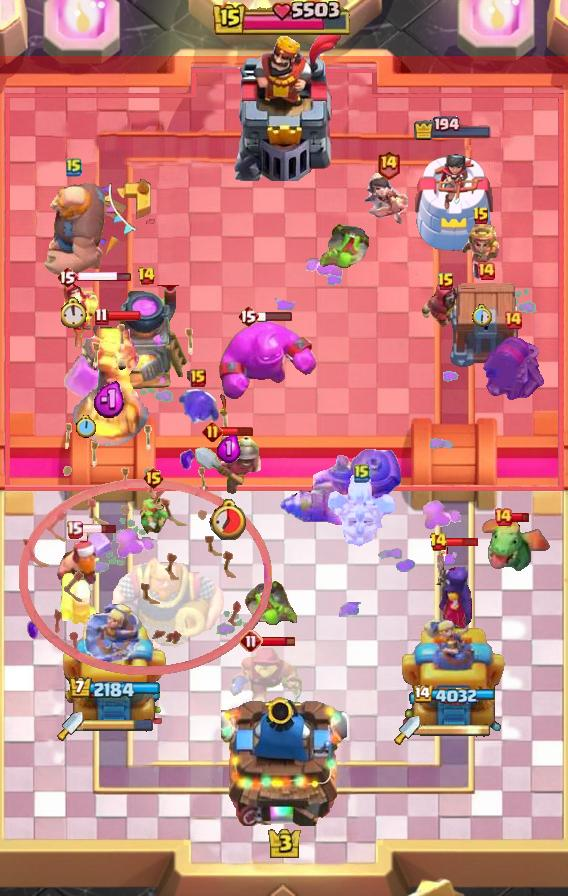axe: (430, 541, 476, 629)
balloon: (40, 178, 108, 280)
bandit: (194, 430, 264, 496)
bar: (59, 595, 169, 731), (402, 615, 507, 731)
bar-level: (243, 578, 301, 626), (316, 223, 370, 271)
bomb: (447, 283, 525, 369)
bomber-evolution: (459, 221, 503, 279)
bowler: (59, 282, 101, 352), (420, 281, 472, 329)
clock: (213, 0, 355, 38)
clone: (211, 320, 319, 402)
electro-dragon: (71, 321, 149, 449)
electro-spirit: (93, 381, 127, 419), (217, 433, 241, 463)
electro-wizard: (478, 517, 554, 575)
elixir: (209, 498, 249, 540), (61, 296, 88, 327), (75, 415, 96, 439), (472, 305, 493, 328)
emote: (77, 270, 132, 283), (261, 636, 296, 649), (81, 523, 118, 535), (257, 310, 293, 322), (106, 310, 142, 322), (444, 536, 479, 548), (220, 427, 254, 438), (510, 512, 530, 524)
fireball: (228, 646, 308, 720)
giant-skeleton: (110, 552, 226, 652)
giant-snowball: (137, 495, 169, 535)
hunter: (101, 285, 191, 393)
king-tower: (223, 31, 345, 181), (221, 690, 347, 826)
king-tower-bar: (420, 723, 492, 737), (83, 719, 153, 733)
knight-evolution: (63, 348, 109, 401)
mighty-miner: (55, 525, 115, 599)
mini-pekka: (324, 474, 400, 554)
queen-tower: (410, 144, 496, 255)
royal-giant-evolution: (479, 333, 547, 403)
selected: (68, 677, 160, 701), (413, 115, 493, 140), (411, 686, 495, 707)
skeleton-barrel: (16, 323, 272, 678)
skeleton-dragon: (363, 170, 413, 226)
spear-goblin: (177, 387, 219, 427)
text: (376, 149, 401, 180), (239, 629, 263, 653), (143, 466, 166, 490), (56, 265, 78, 289), (237, 304, 259, 328), (201, 421, 222, 443), (476, 261, 496, 281), (503, 310, 523, 330), (493, 507, 513, 527), (136, 266, 155, 286), (429, 532, 448, 552), (472, 206, 490, 226), (437, 272, 455, 292), (66, 157, 82, 177), (354, 463, 370, 483), (66, 521, 83, 539), (190, 369, 206, 387), (94, 307, 109, 326)
tombstone: (58, 570, 100, 628)
wizard: (279, 448, 403, 526)
